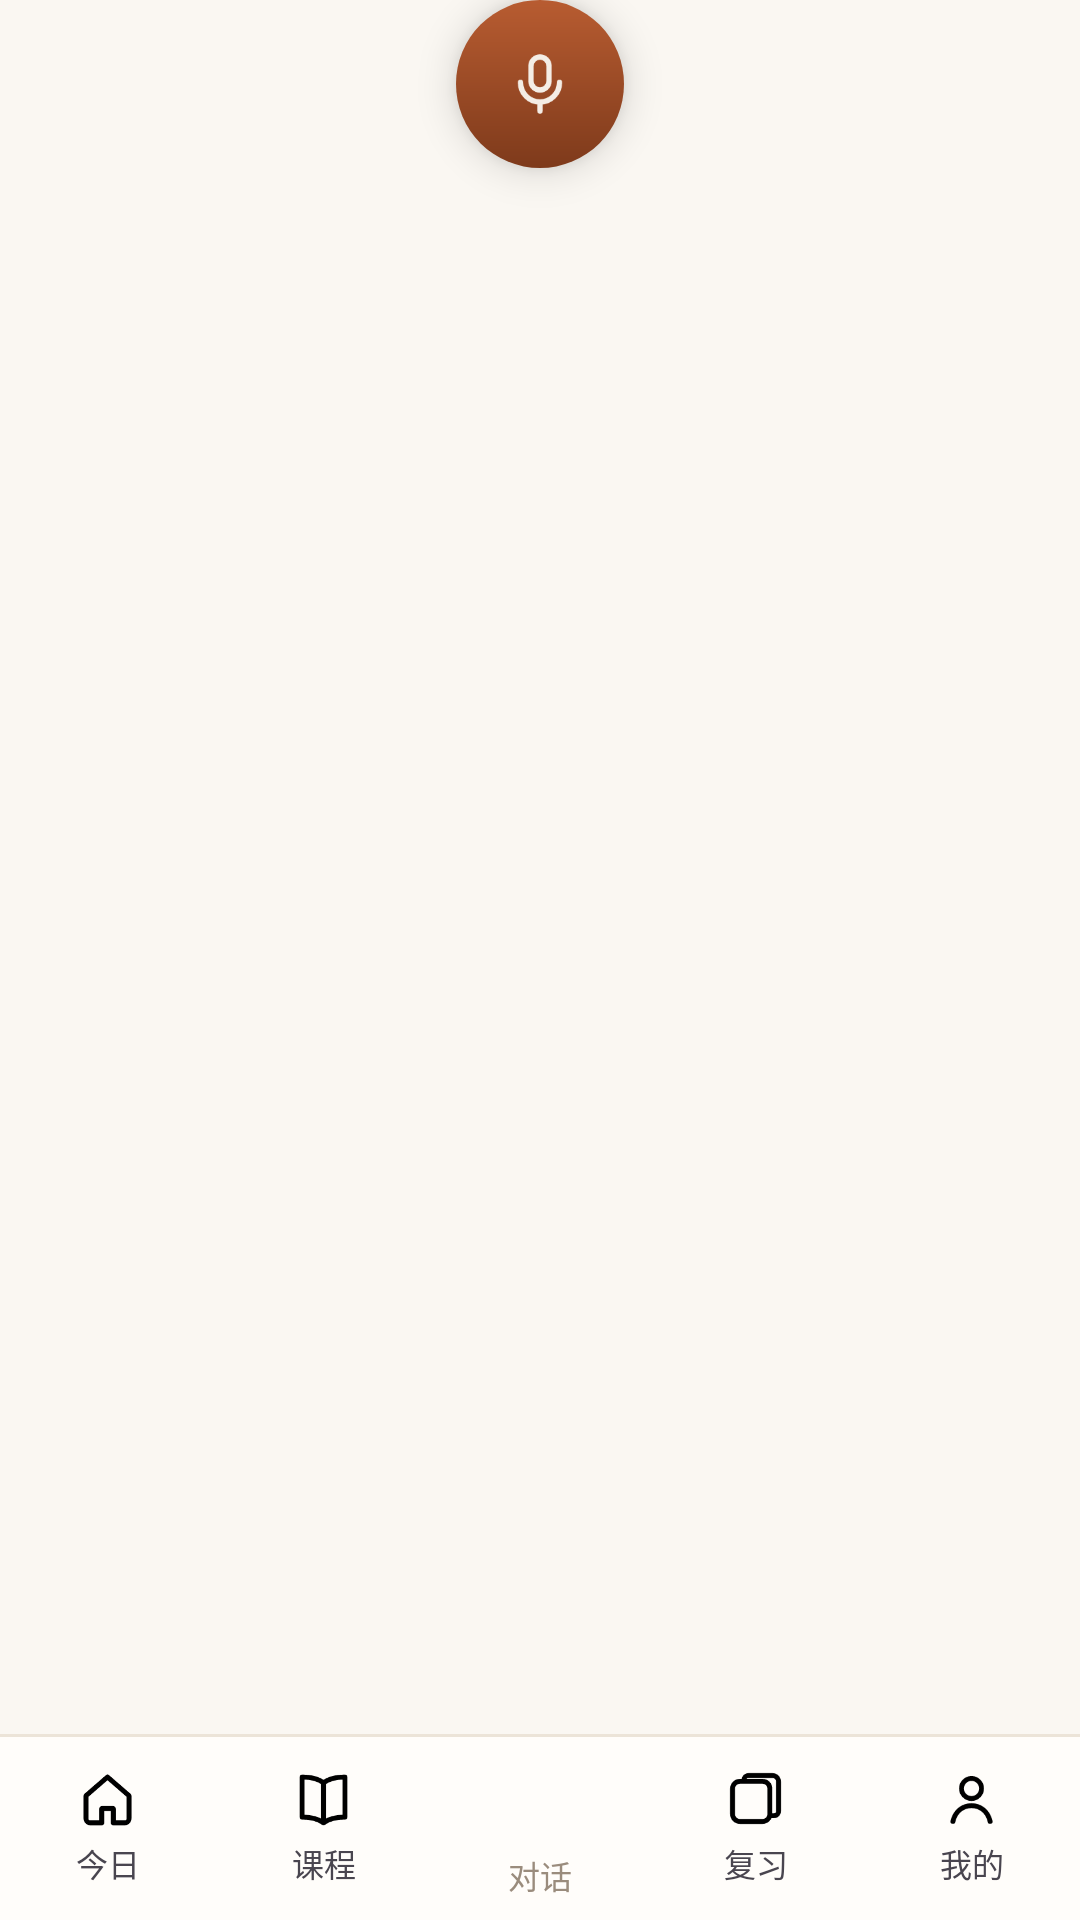

Icon bounding boxes for this 1080*1920 phone screenshot, format (x1=x1, y1=y1, x2=x2, y2=y2):
mic: (x1=504, y1=54, x2=576, y2=120)
